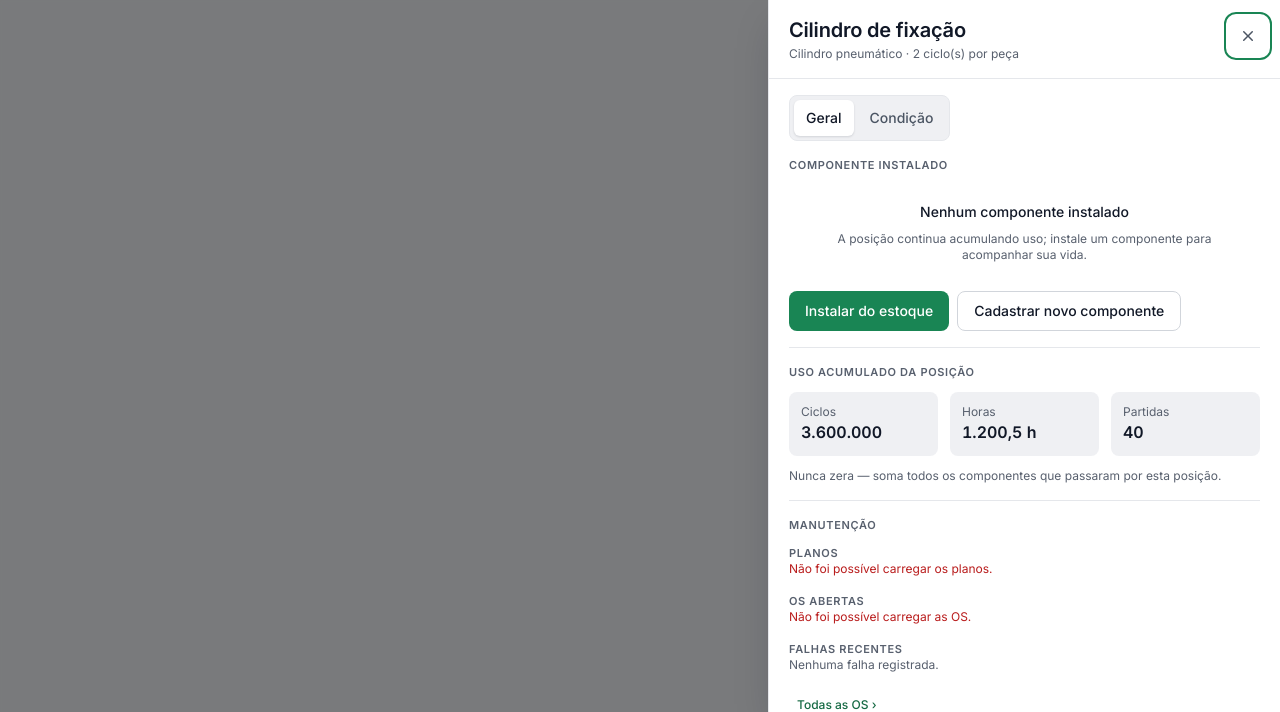
Scenario: PositionDrawer › shows the API error when an action fails
Click the button "Instalar do estoque" at (869,311), box [789,291,949,331]
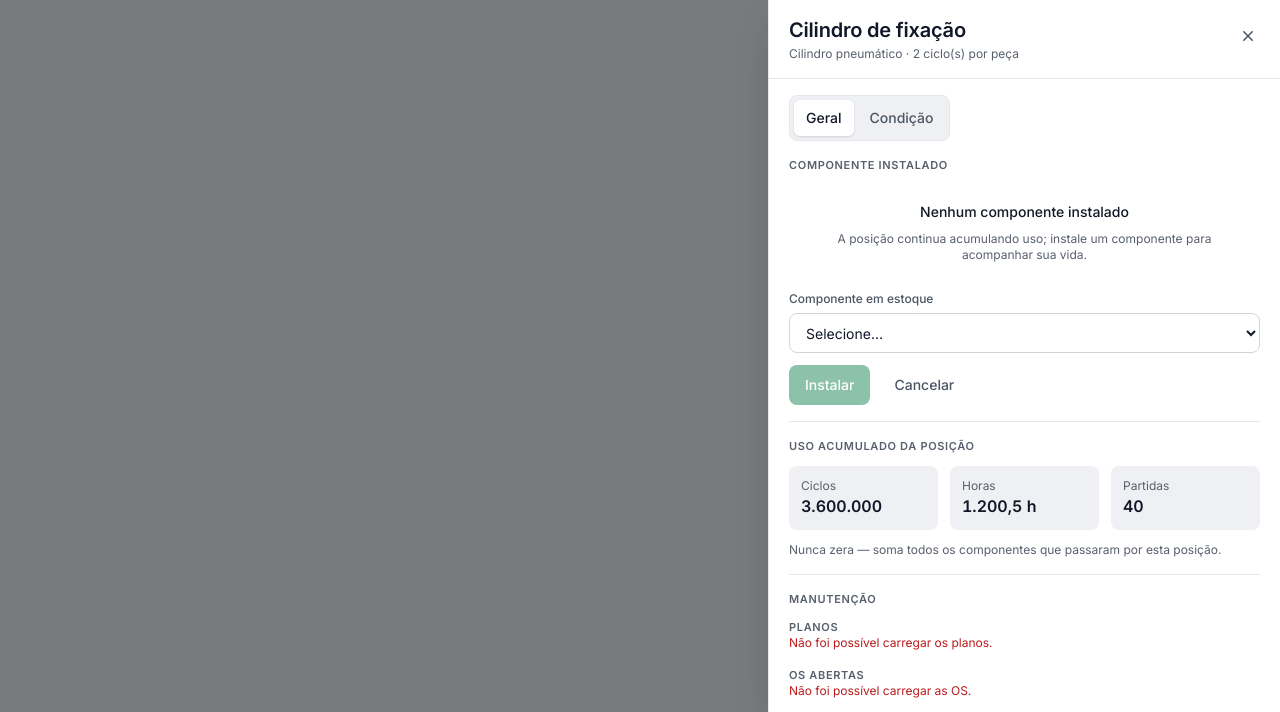
Select "Festo DSBC-63 — S/N SN-009" in the dropdown labelled "Componente em estoque" at (1024,333), box [789,313,1260,353]
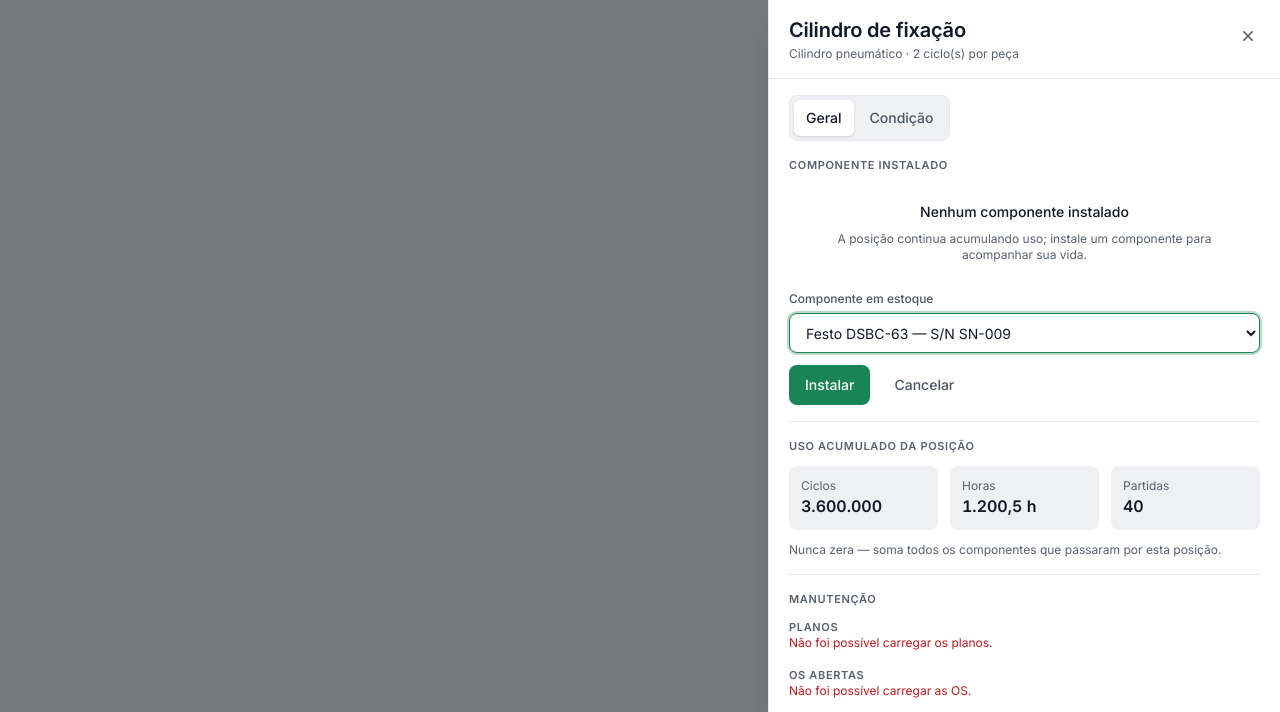
Click the button "Instalar" at (830,385), box [789,365,870,405]
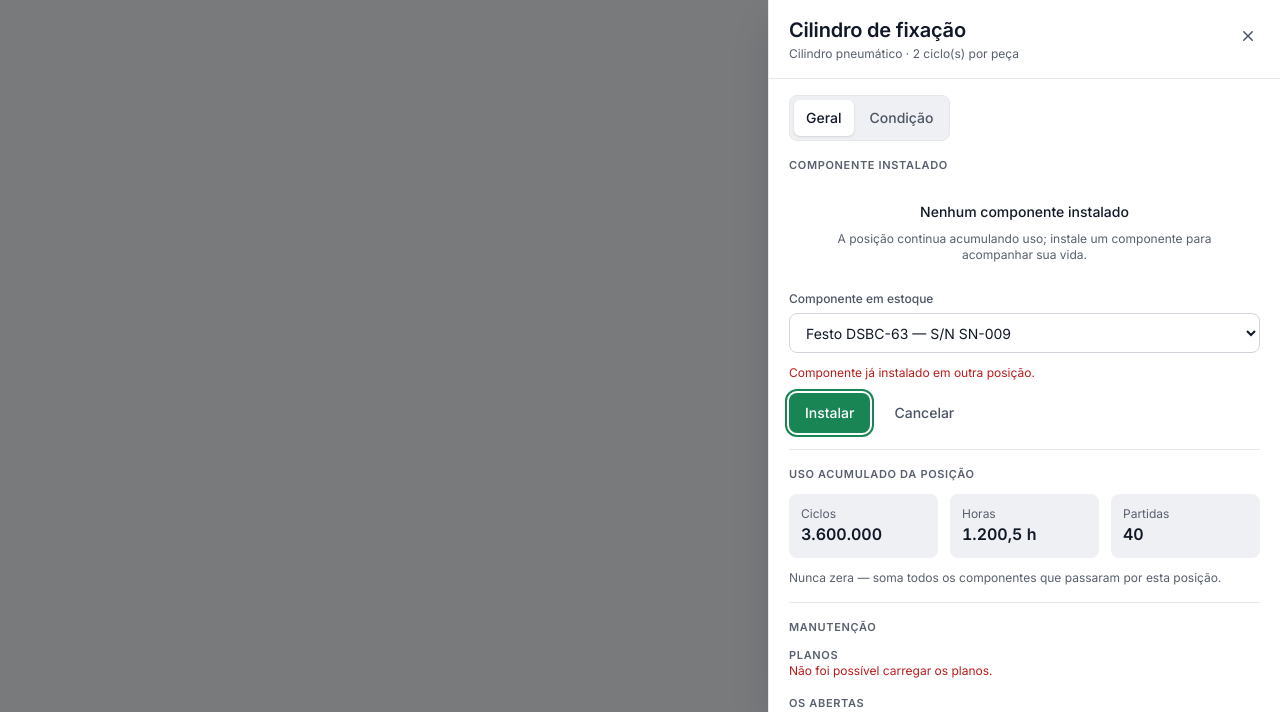
Now the text "Componente já instalado em outra posição." is shown, box [789,365,1035,380]
